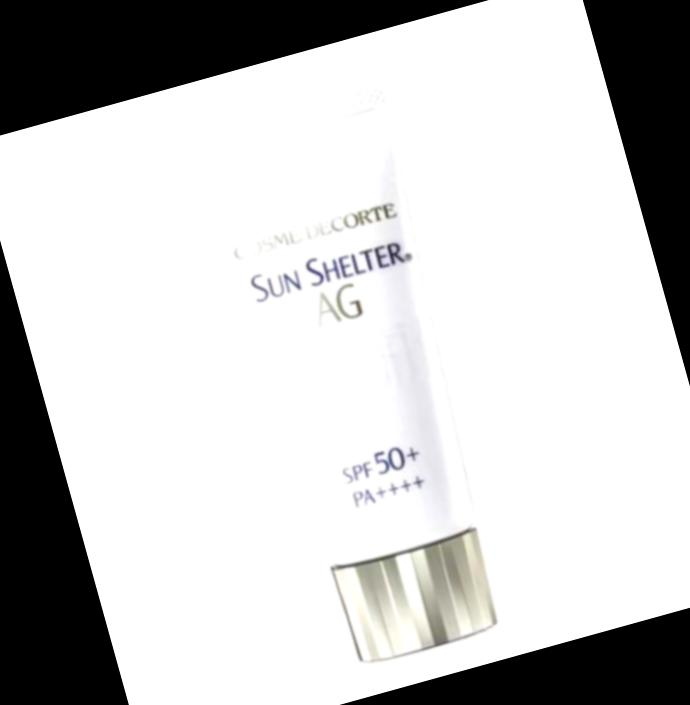cosmetic: (179, 79, 533, 677)
